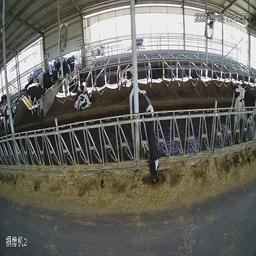cow: (127, 83, 165, 188), (232, 83, 254, 135), (24, 79, 46, 117), (74, 84, 94, 112), (118, 61, 133, 87), (37, 67, 55, 88)
